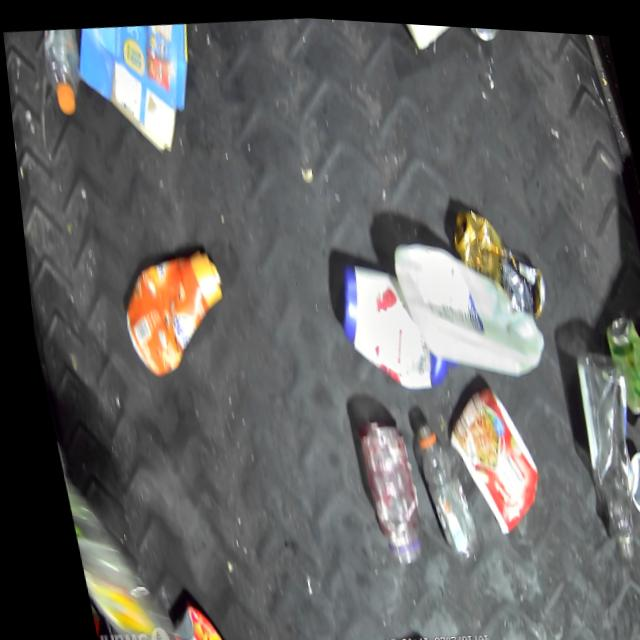milk_jug: (385, 227, 547, 385)
plastic_bottle: (560, 342, 640, 553), (400, 418, 472, 555)
